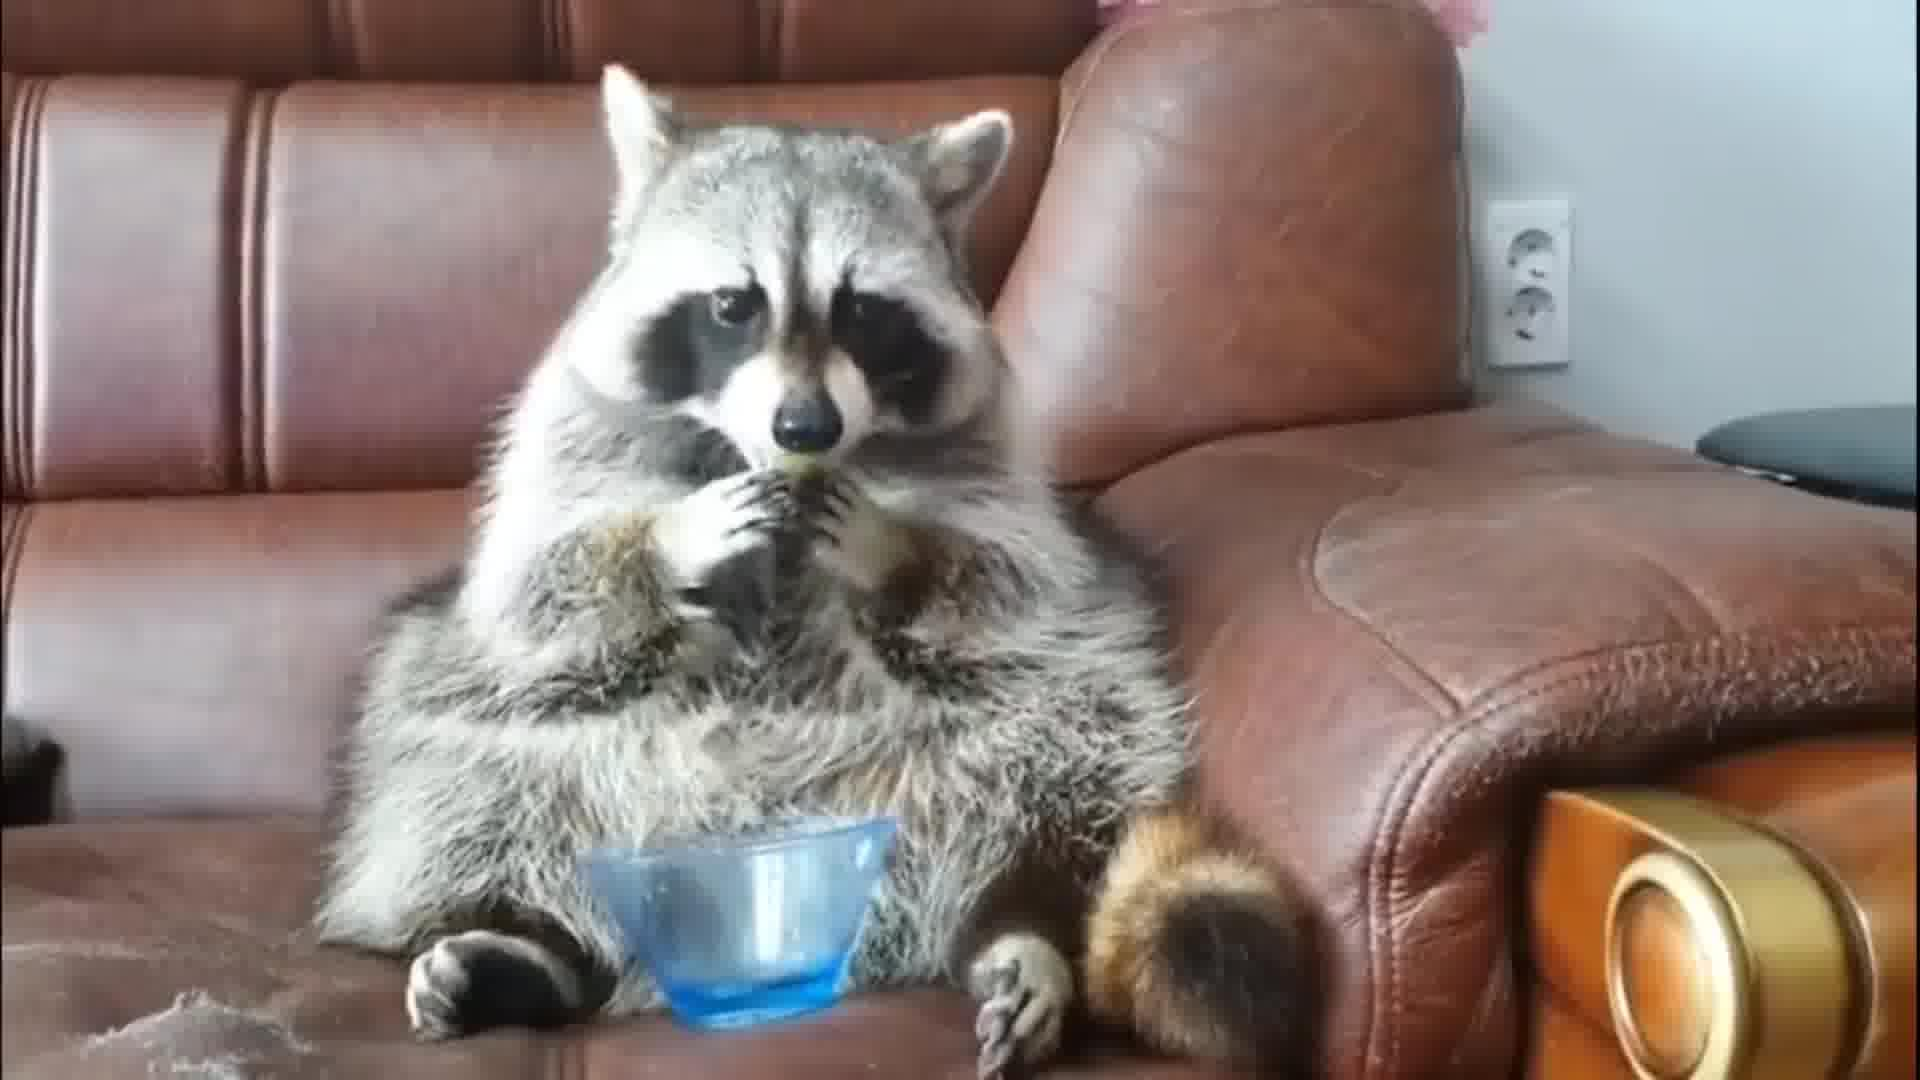raccoon: (311, 62, 1313, 1073)
